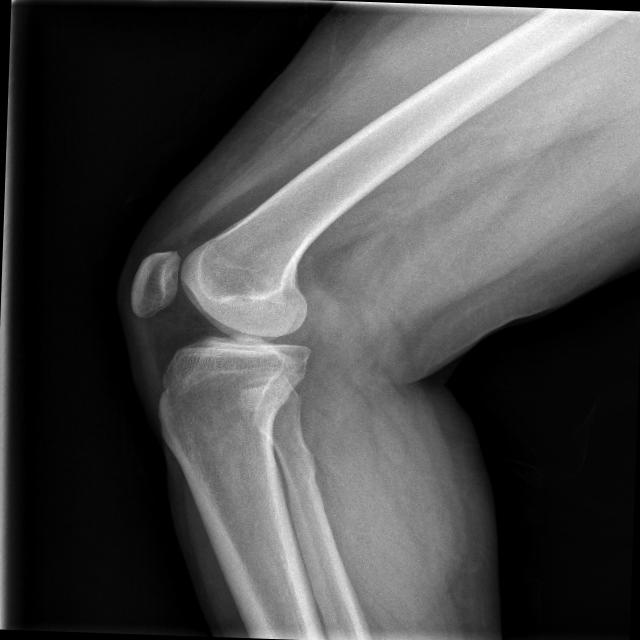Knee: (123, 238, 314, 424)
